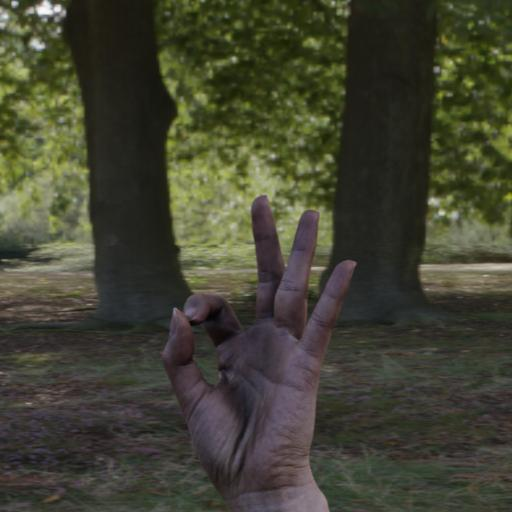F: (130, 174, 371, 512)
